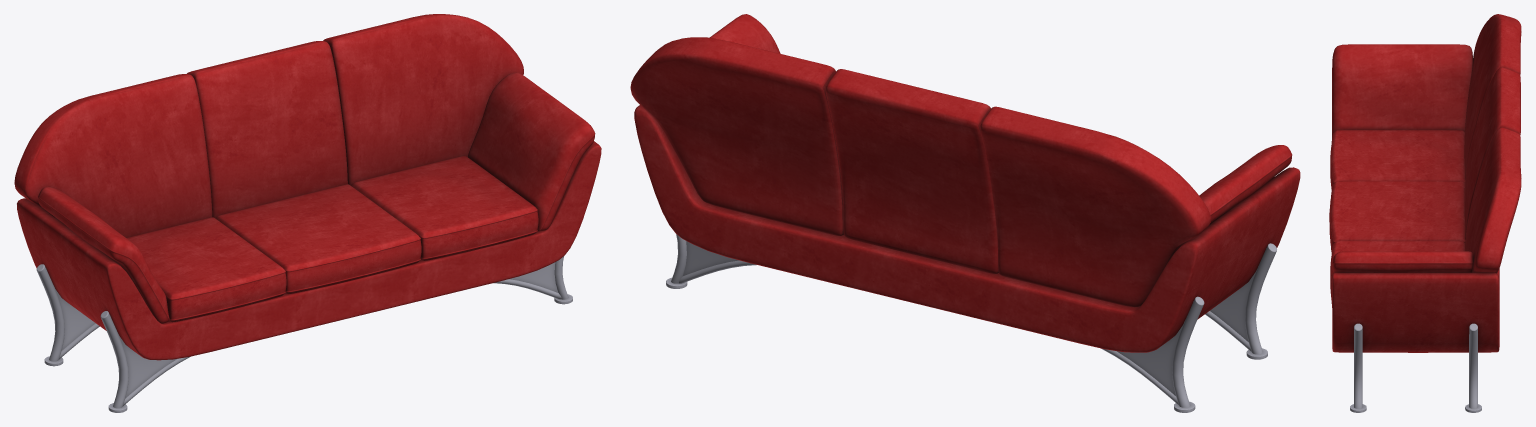
File: sofa_red.glb
3 renders of one model, left to right at view 1: azimuth 30°, elevation 25°; view 2: azimuth 150°, elevation 25°; view 3: azimuth 270°, elevation 25°, orthographic. The views are drawn at different scales.
Parts seen in each view (by area): view 1: Cube.011; view 2: Cube.011; view 3: Cube.011.
Boxes of the visible parts, bbox=[...] form: Cube.011: bbox=[14, 14, 601, 412]; Cube.011: bbox=[630, 14, 1300, 412]; Cube.011: bbox=[1329, 14, 1521, 412].
Bounding box in the file's own units: 2.03 × 0.9324 × 0.7495.
1 material, 1 textured.
